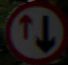Two way: (9, 5, 57, 50)
